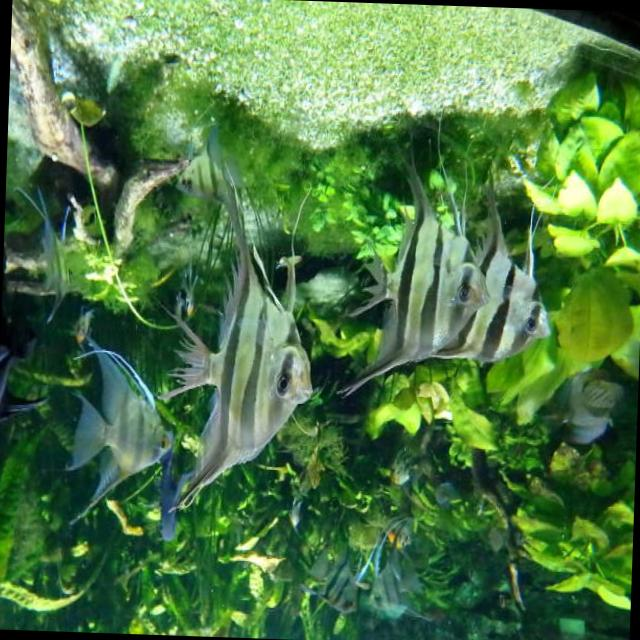AngelFish: (165, 142, 328, 506), (330, 142, 496, 400), (64, 327, 176, 539), (426, 209, 555, 369), (12, 168, 74, 316)
